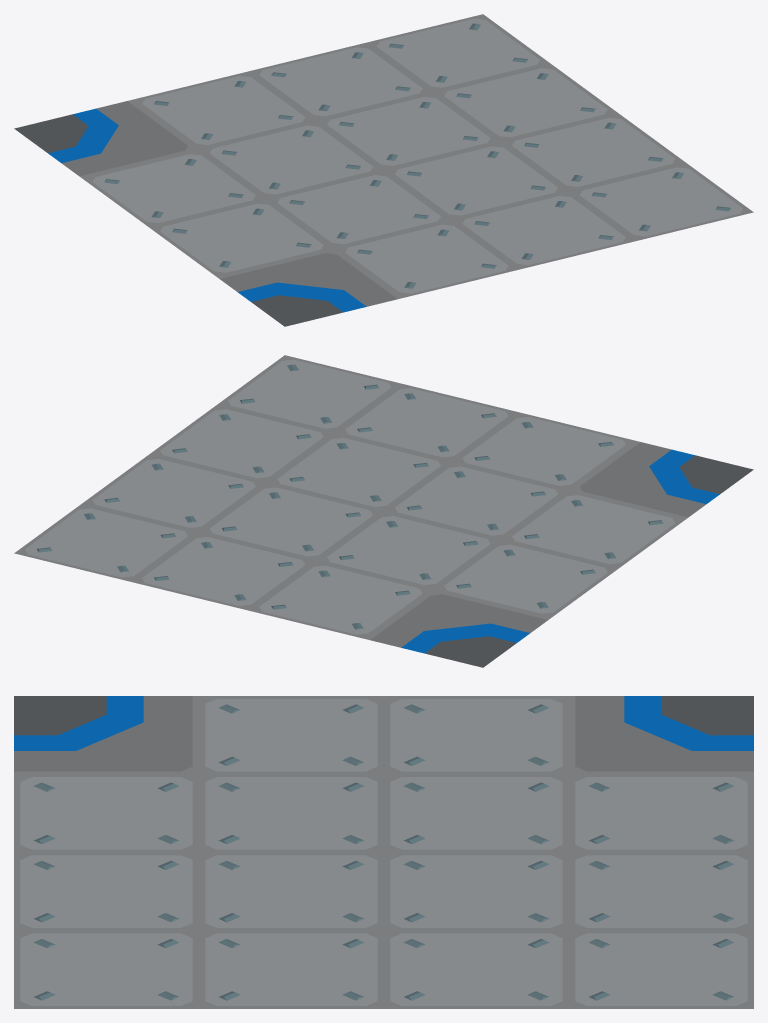
File: Floor_type_B_009.fbx
The picture shows the model from 3 angles, top to bottom: view 1: azimuth 30°, elevation 25°; view 2: azimuth 150°, elevation 25°; view 3: azimuth 270°, elevation 25°; orthographic projection. The views are drawn at different scales.
Visible parts, largest first — view 1: Floor_type_B_009; view 2: Floor_type_B_009; view 3: Floor_type_B_009.
Part boxes in pixels (bbox=[...]): Floor_type_B_009: bbox=[14, 14, 753, 326]; Floor_type_B_009: bbox=[14, 355, 753, 667]; Floor_type_B_009: bbox=[14, 696, 753, 1008].
Bounding box in the file's own units: 400 × 400 × 0.8.
